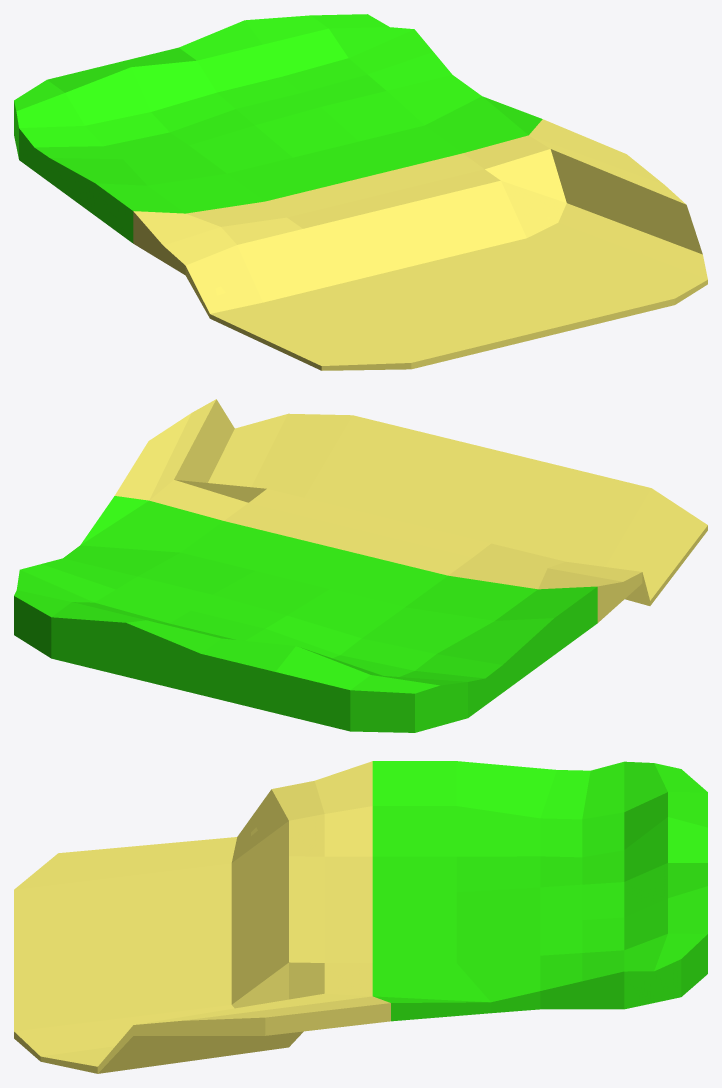
File: ilha.fbx
3 views of the same model, one above another, from view 1: azimuth 30°, elevation 25°; view 2: azimuth 150°, elevation 25°; view 3: azimuth 270°, elevation 25° (orthographic). The views are drawn at different scales.
Visible parts, largest first — view 1: ilha; view 2: ilha; view 3: ilha.
Boxes of the visible parts, left/top/right/bottom form: ilha: left=14, top=14, right=707, bottom=370; ilha: left=14, top=399, right=707, bottom=732; ilha: left=14, top=761, right=707, bottom=1073.
Size of the model in its own units: 3845 by 679 by 4719.
